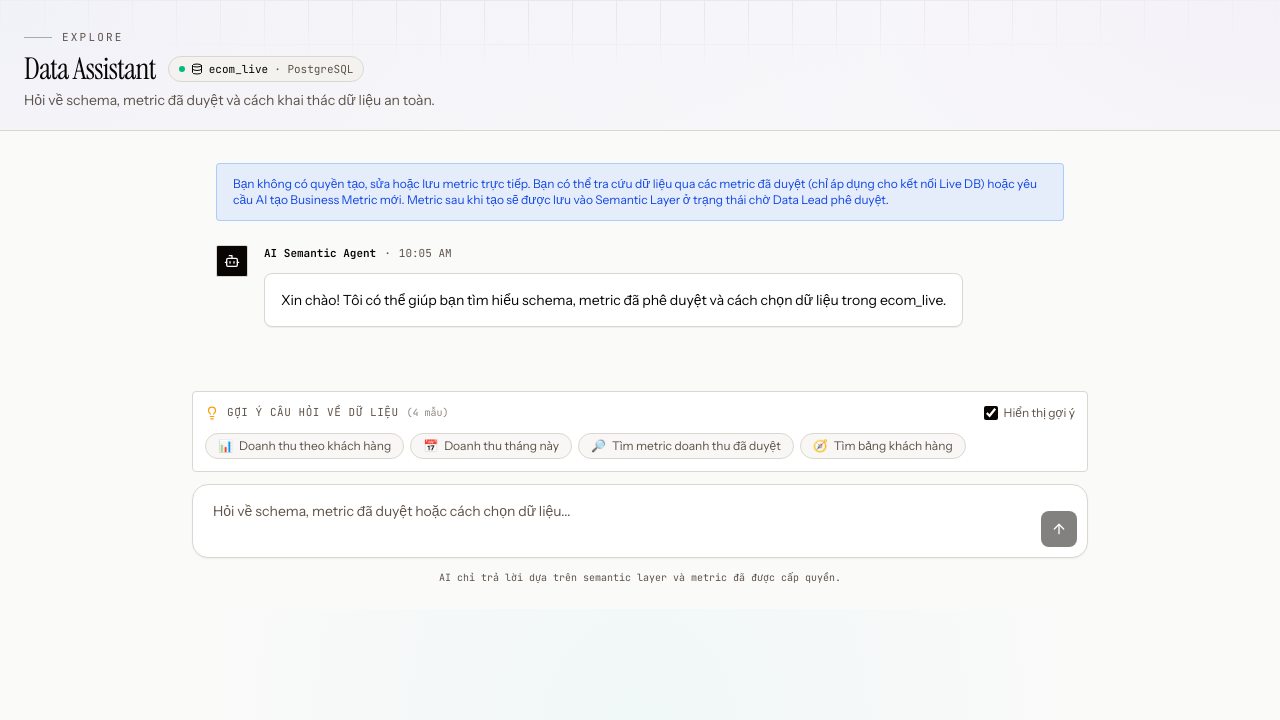
AIStudioView › creates exactly one user bubble for a custom answer then the AI continuation
In the text box with placeholder "Hỏi về schema, metric đã duyệt hoặc cách chọn dữ liệu...": point(618, 521) [203, 495, 1033, 547], type "Doanh thu"
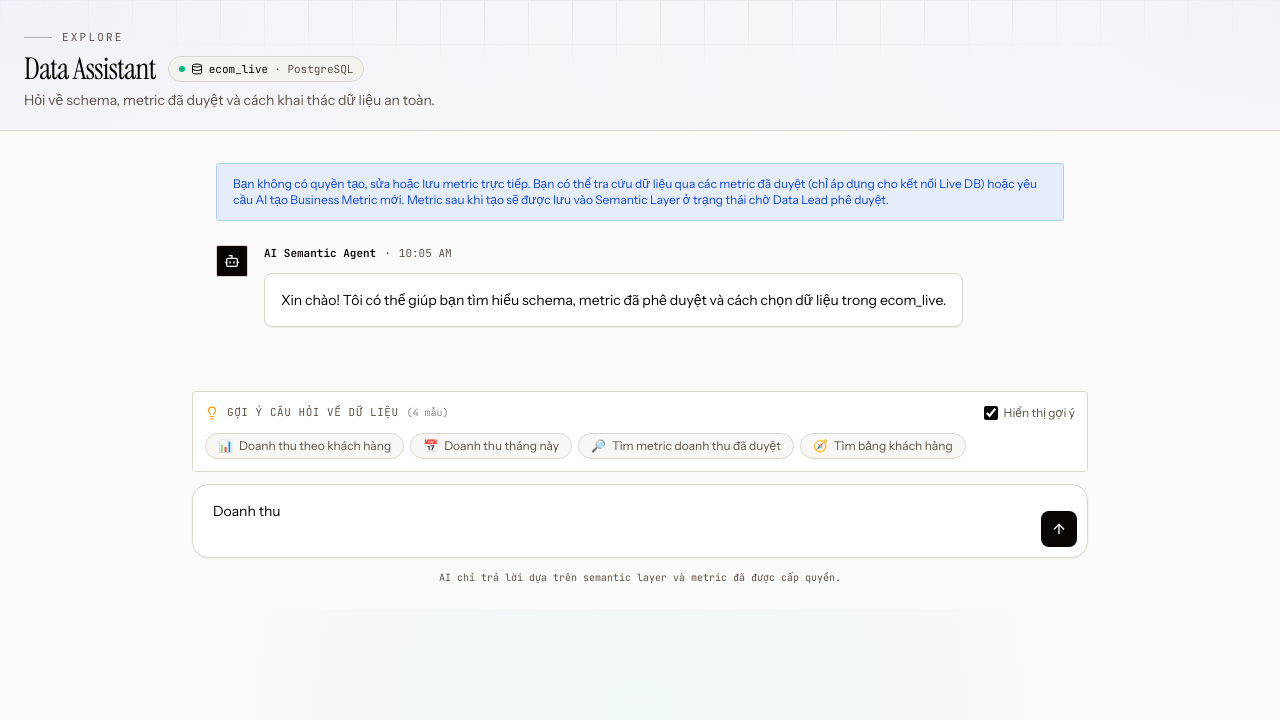
Click the button named "Send message": point(1059, 529) [1041, 511, 1077, 547]
(page scrolled)
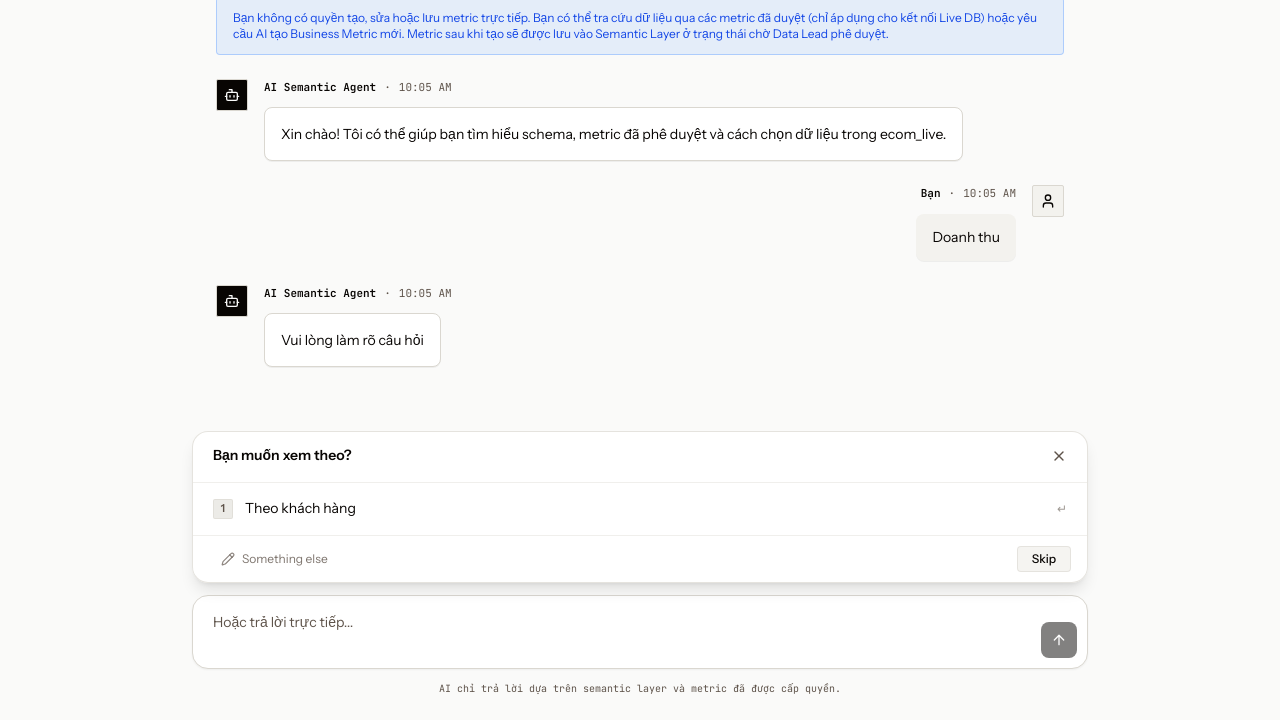
Check: the element with test id "clarification-card" is shown, box [192, 431, 1088, 583]
In the field named "Câu trả lời tùy chỉnh": point(607, 559) [209, 544, 1005, 574], type "  Theo khu vực  "
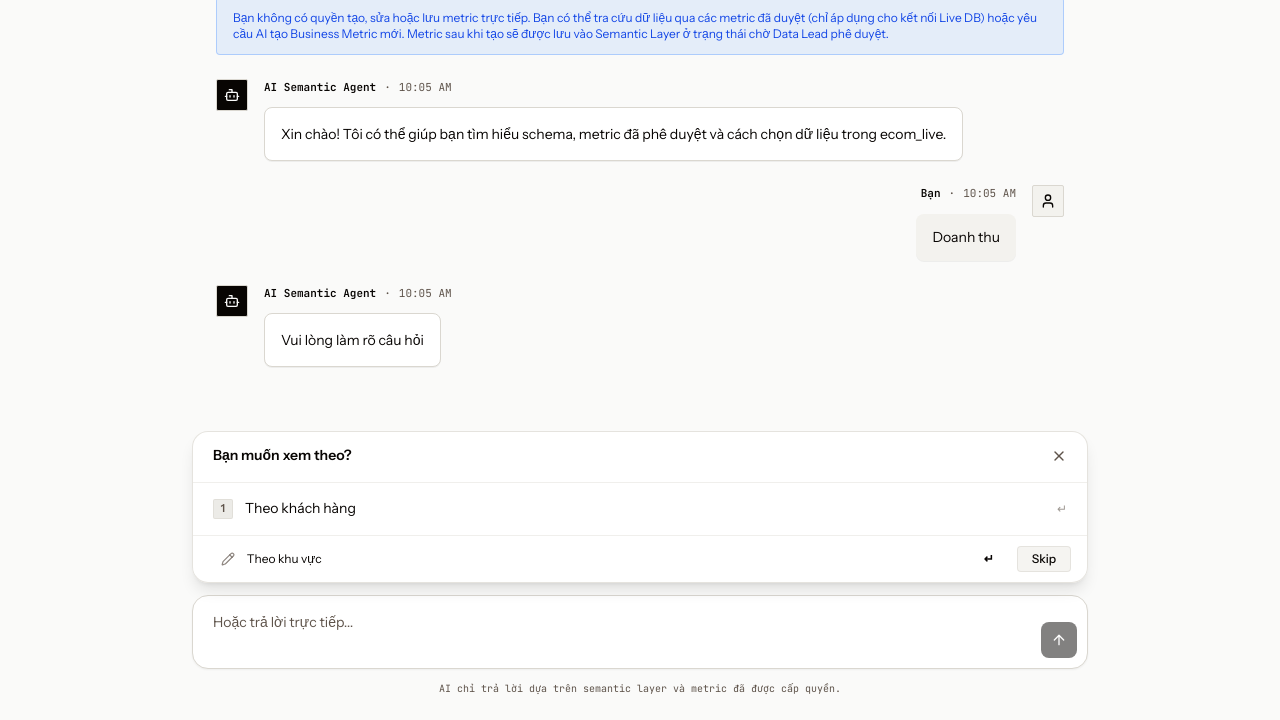
Press Enter in the field named "Câu trả lời tùy chỉnh", box [209, 544, 1005, 574]
(page scrolled)
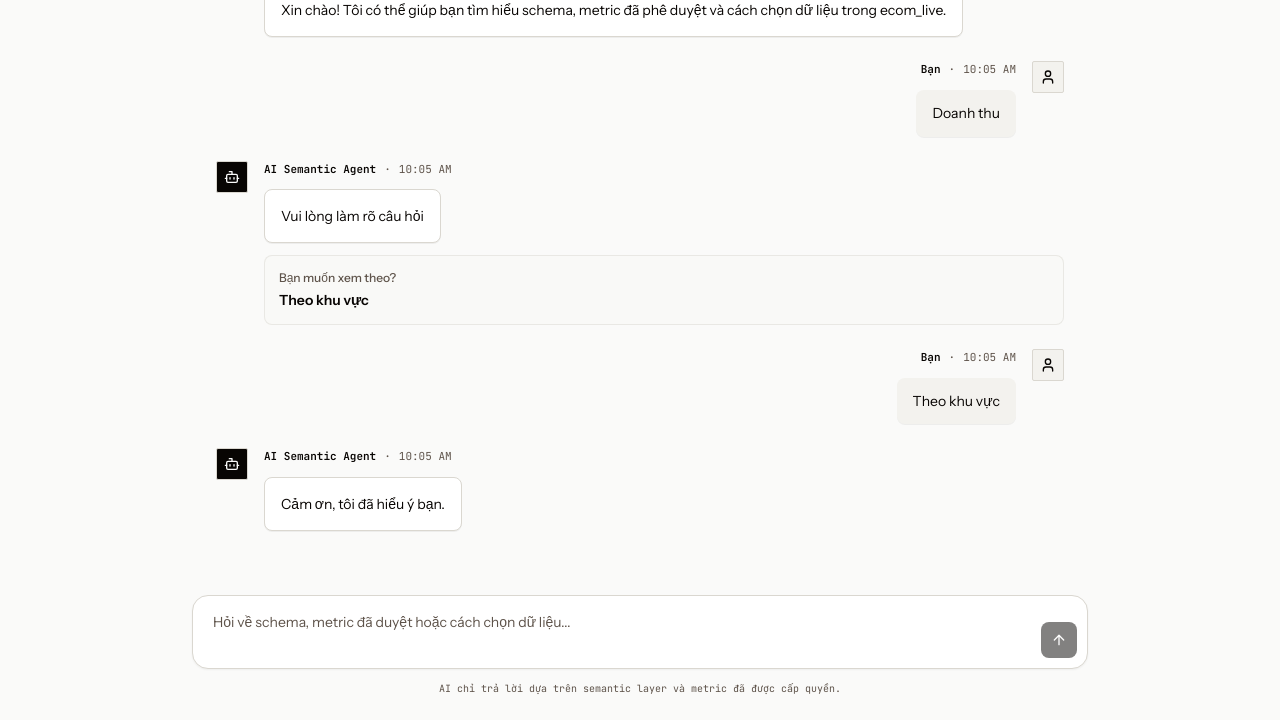
Check: the text "Theo khu vực" below "Bạn muốn xem theo?" is shown, box [279, 291, 369, 309]
